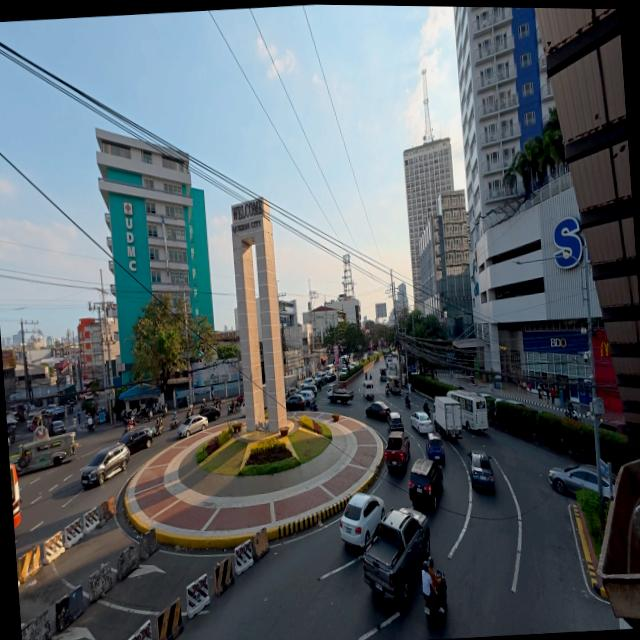car: (338, 492, 389, 551), (76, 442, 130, 490), (465, 451, 495, 495), (119, 427, 151, 453), (285, 388, 317, 412), (364, 398, 390, 421)
trucks: (357, 504, 438, 609)
